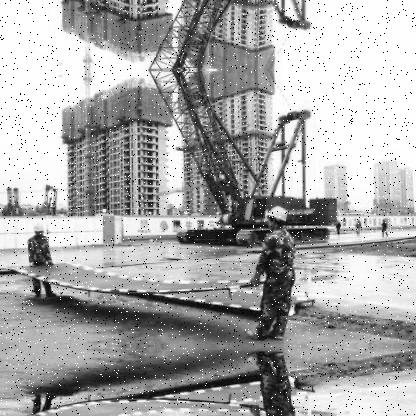Helmet: (260, 206, 290, 231), (30, 221, 48, 242)
